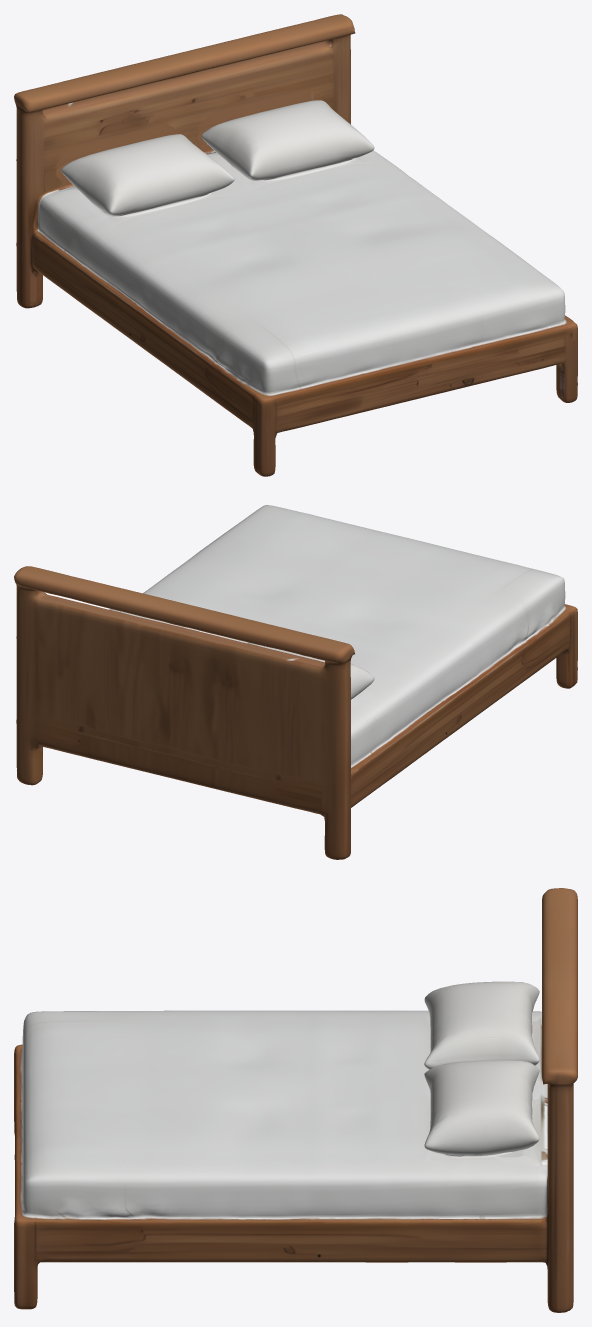
Rendered from bed.glb.
3 views of the same model, one above another, from view 1: azimuth 30°, elevation 25°; view 2: azimuth 150°, elevation 25°; view 3: azimuth 270°, elevation 25° (orthographic). The views are drawn at different scales.
Parts seen in each view (by area): view 1: model; view 2: model; view 3: model.
Boxes of the visible parts, x1=… form: model: x1=14, y1=14, x2=577, y2=476; model: x1=14, y1=505, x2=577, y2=859; model: x1=14, y1=888, x2=577, y2=1312.
Bounding box in the file's own units: 1.48 × 0.9077 × 1.91.
Materials: 1 (1 with a texture image).
